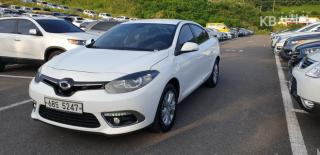2: (66, 102, 70, 110)
4: (70, 103, 74, 110)
5: (61, 102, 66, 109)
6: (47, 99, 52, 107)
7: (74, 104, 79, 111)
8: (51, 100, 55, 108)
plate: (42, 95, 86, 116)
도: (55, 101, 61, 109)
